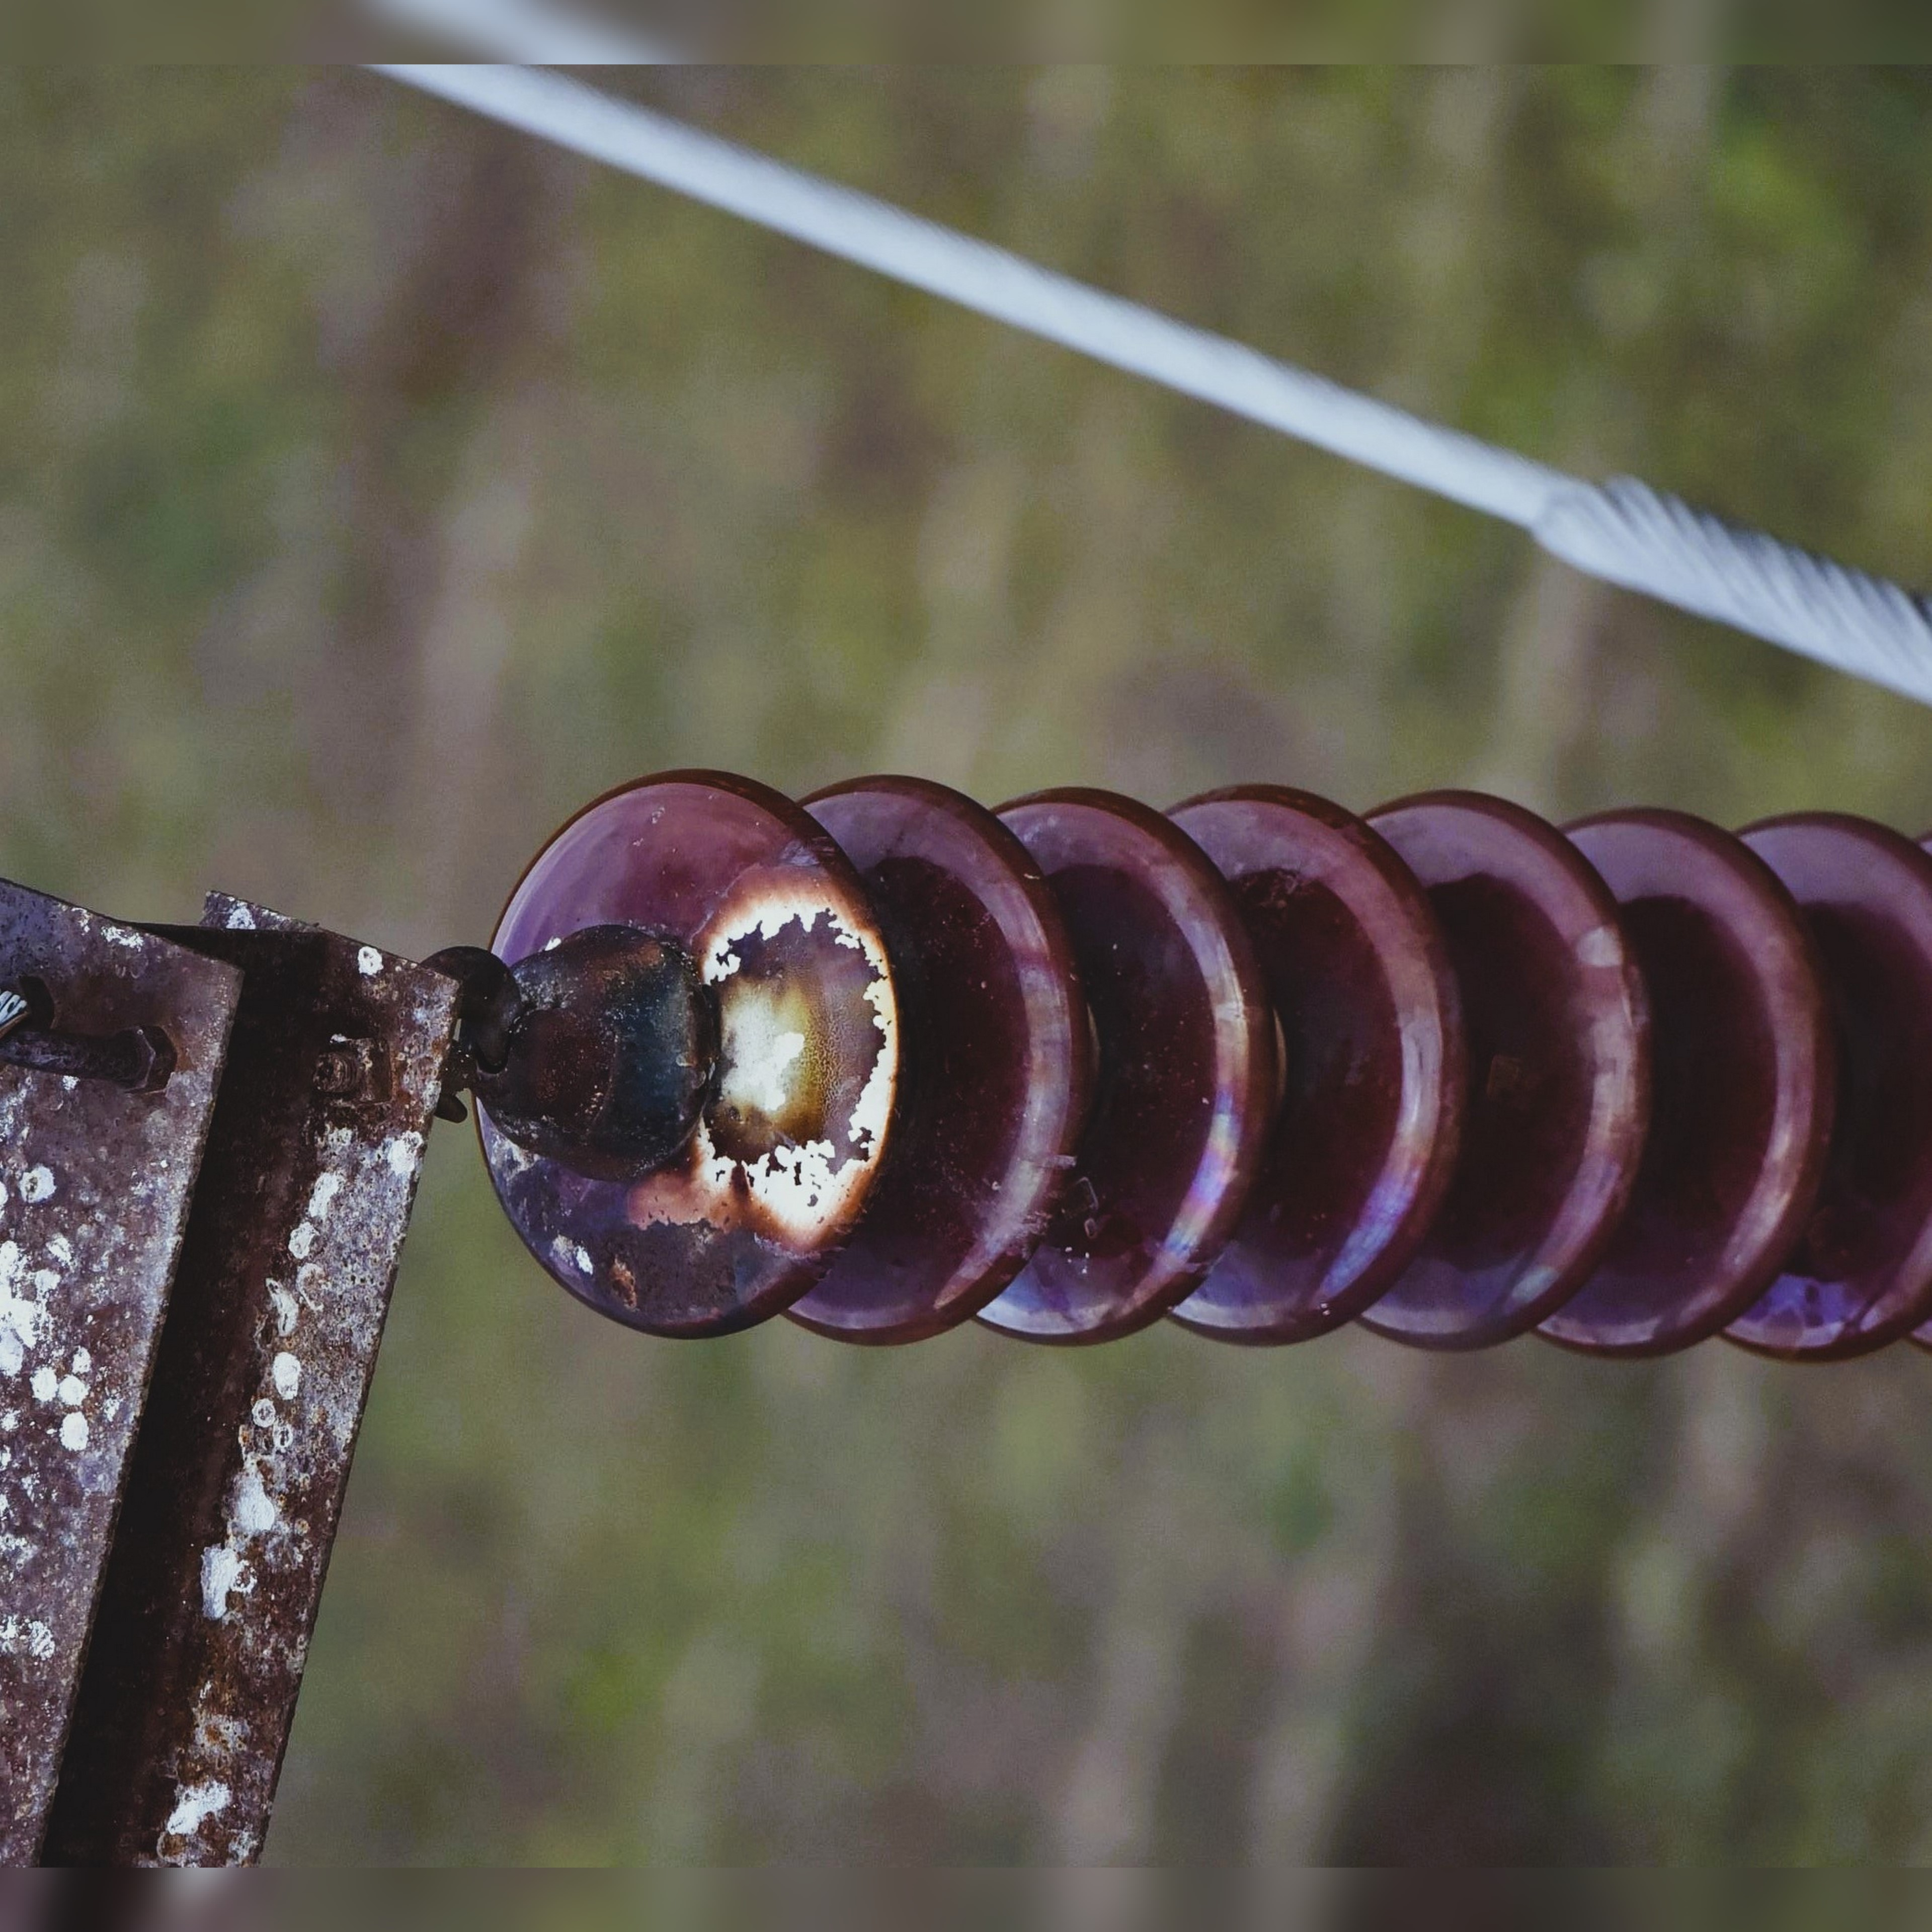Insulator flashover: (458, 759, 954, 1359)
